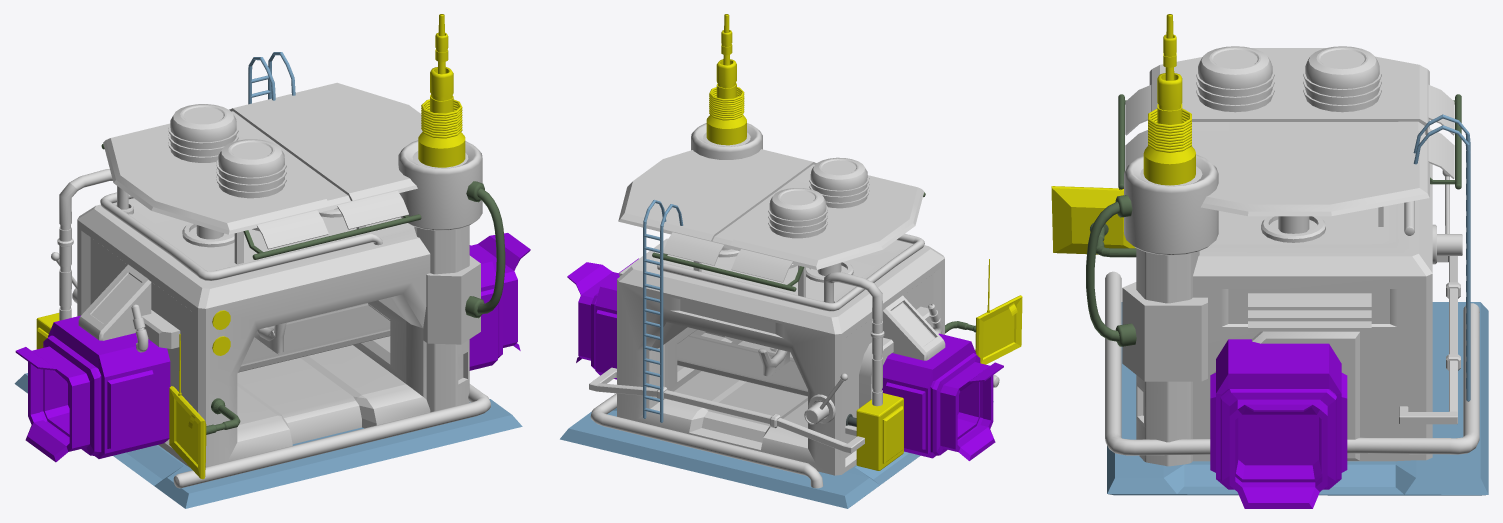
The model's file is MESH_Constructeur_01.fbx.
The picture shows the model from 3 angles, left to right: view 1: azimuth 30°, elevation 25°; view 2: azimuth 150°, elevation 25°; view 3: azimuth 270°, elevation 25°; orthographic projection. The views are drawn at different scales.
Parts seen in each view (by area): view 1: MESH_Constructeur_02; view 2: MESH_Constructeur_02; view 3: MESH_Constructeur_02.
Boxes of the visible parts, <box> form: MESH_Constructeur_02: <box>14,14,530,508</box>; MESH_Constructeur_02: <box>560,14,1022,508</box>; MESH_Constructeur_02: <box>1051,14,1488,508</box>.
Bounding box in the file's own units: 12.08 × 9.57 × 8.37.
